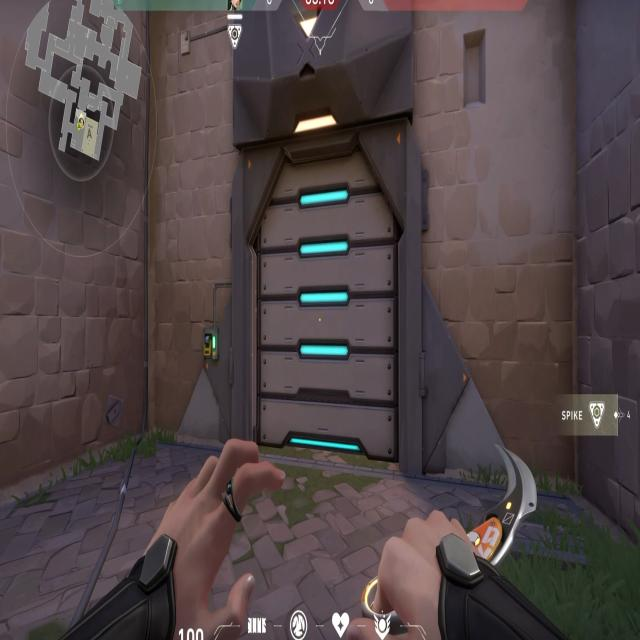A_Door: (239, 140, 416, 468)
